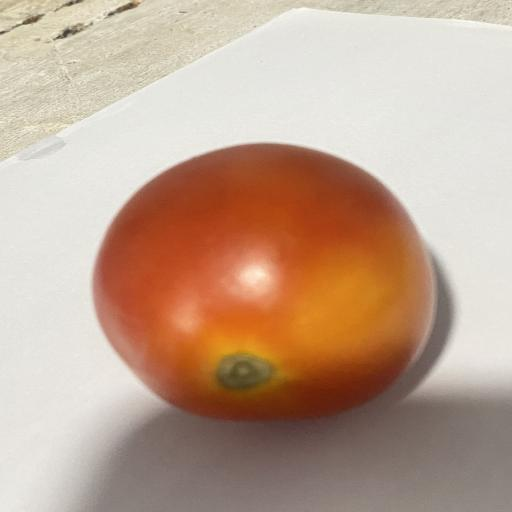ripe: (93, 143, 435, 420)
